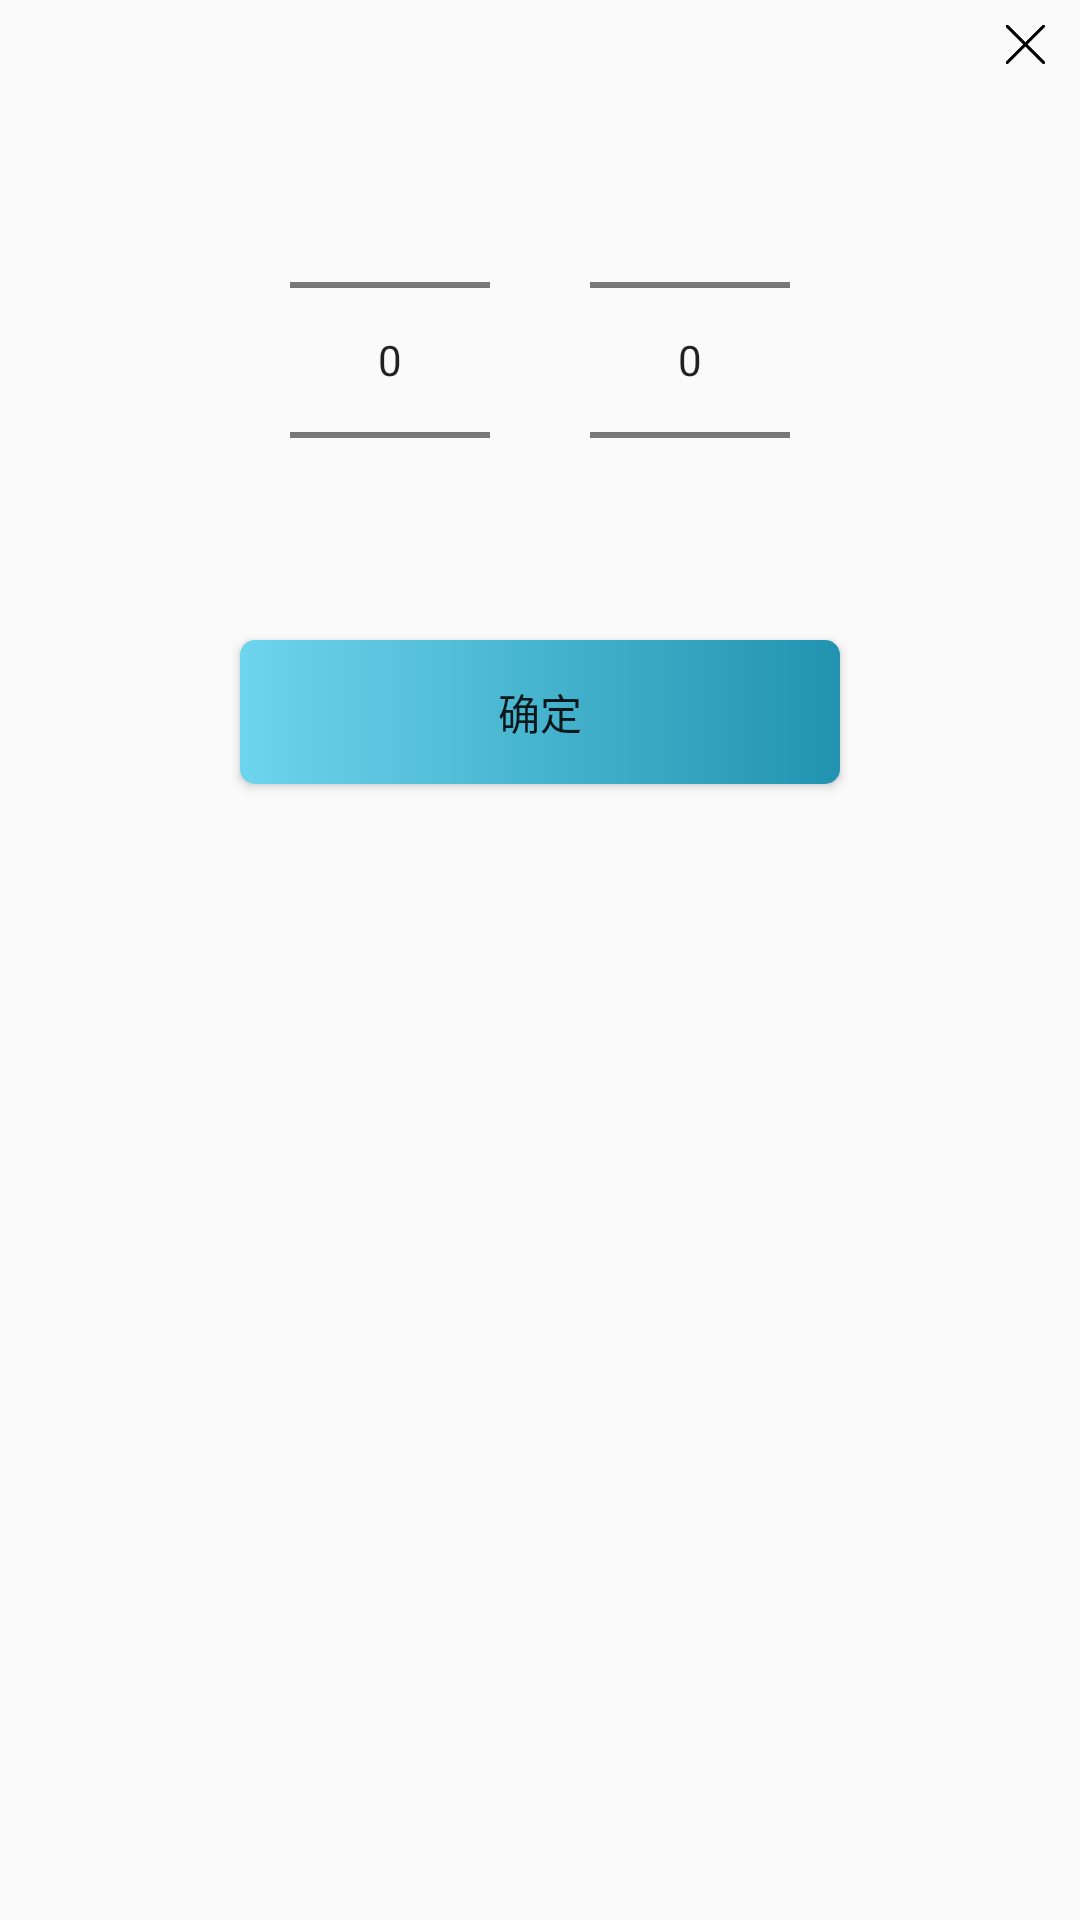

Point at icon controls on the screen. Image size 1080px×1920px, points as point (x, y).
close: point (1025, 44)
